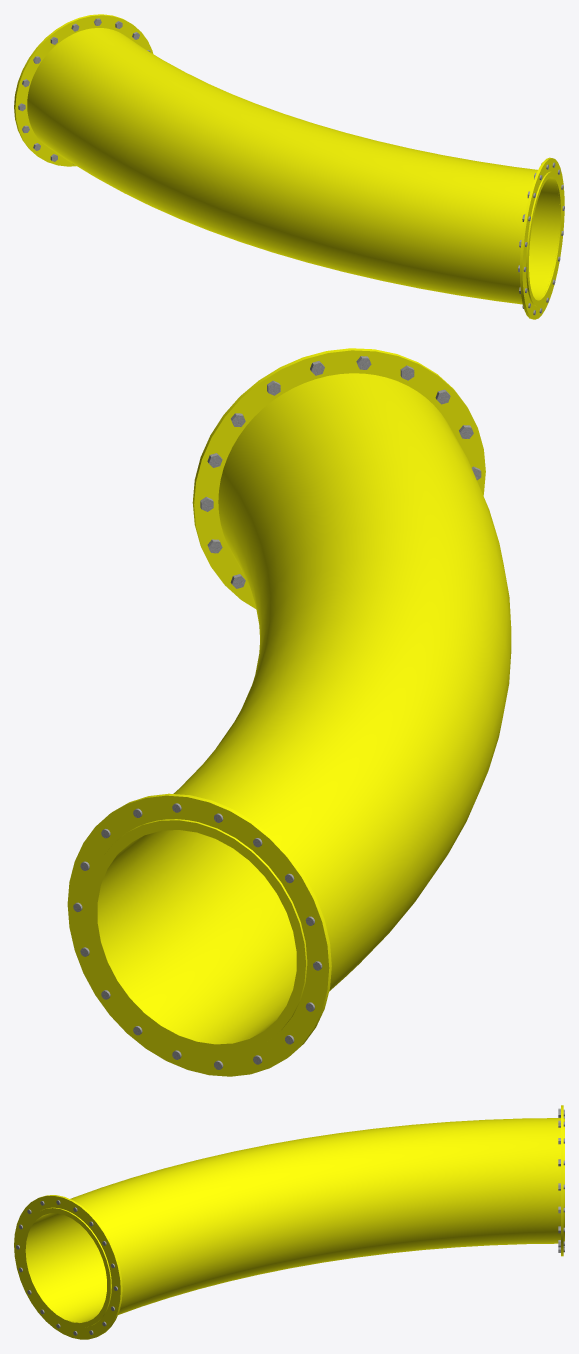
The model's file is bend.obj.
3 renders of one model, top to bottom at view 1: azimuth 30°, elevation 25°; view 2: azimuth 150°, elevation 25°; view 3: azimuth 270°, elevation 25°, orthographic. The views are drawn at different scales.
Parts seen in each view (by area): view 1: Pipe, Bolts; view 2: Pipe, Bolts; view 3: Pipe, Bolts.
Part boxes in pixels (x1,y1,x2,y2): Pipe: (14,14,564,319); Bolts: (18,18,564,315); Pipe: (67,348,511,1076); Bolts: (73,356,481,1069); Pipe: (14,1105,564,1339); Bolts: (16,1108,564,1335).
Bounding box in the file's own units: 1.62 × 0.729 × 2.67.
Materials: 2 (1 with a texture image).
